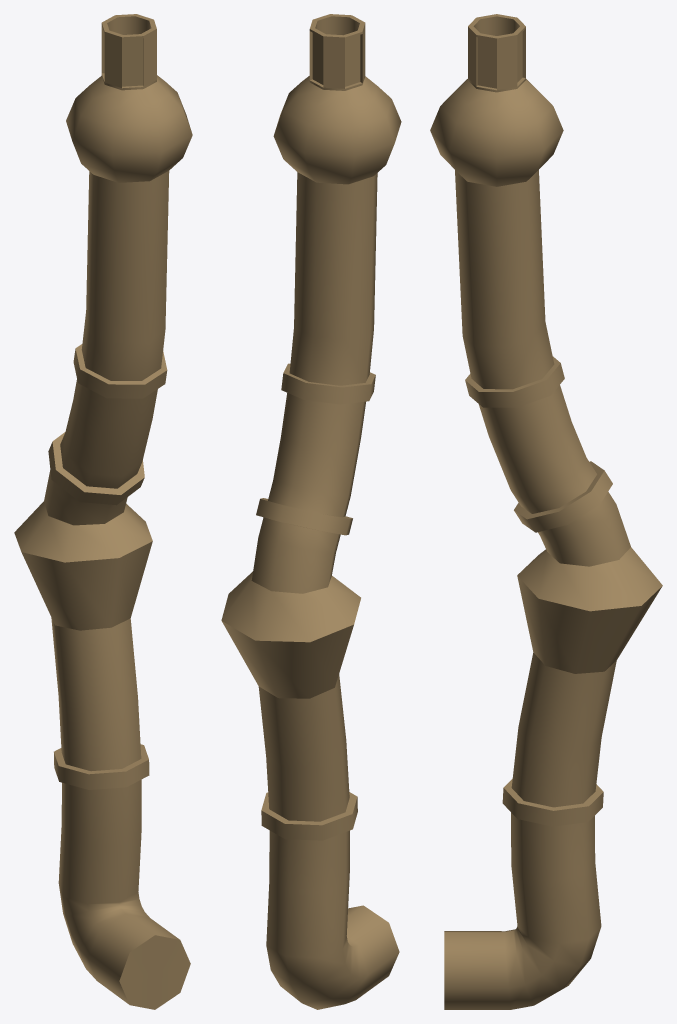
File: SP_House02_Pipe06.fbx
3 renders of one model, left to right at view 1: azimuth 30°, elevation 25°; view 2: azimuth 150°, elevation 25°; view 3: azimuth 270°, elevation 25°, orthographic.
Parts seen in each view (by area): view 1: SP_House02_Pipe06; view 2: SP_House02_Pipe06; view 3: SP_House02_Pipe06.
Boxes of the visible parts, <box> form: SP_House02_Pipe06: <box>14,14,192,1009</box>; SP_House02_Pipe06: <box>221,14,401,1009</box>; SP_House02_Pipe06: <box>430,14,662,1009</box>.
Size of the model in its own units: 1.57 by 11.63 by 2.5.
